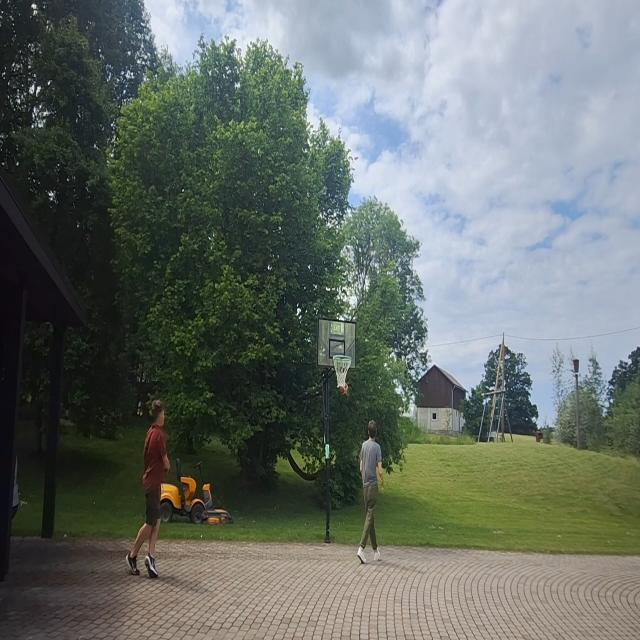ball: (339, 380, 349, 399)
basket: (333, 351, 352, 389)
player: (127, 398, 169, 576), (357, 417, 386, 566)
